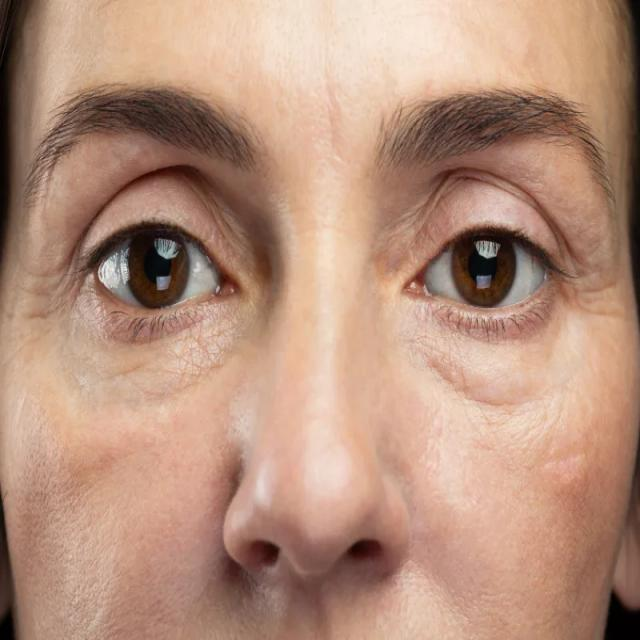Eyes-iris: (119, 212, 197, 319), (447, 223, 518, 315)
